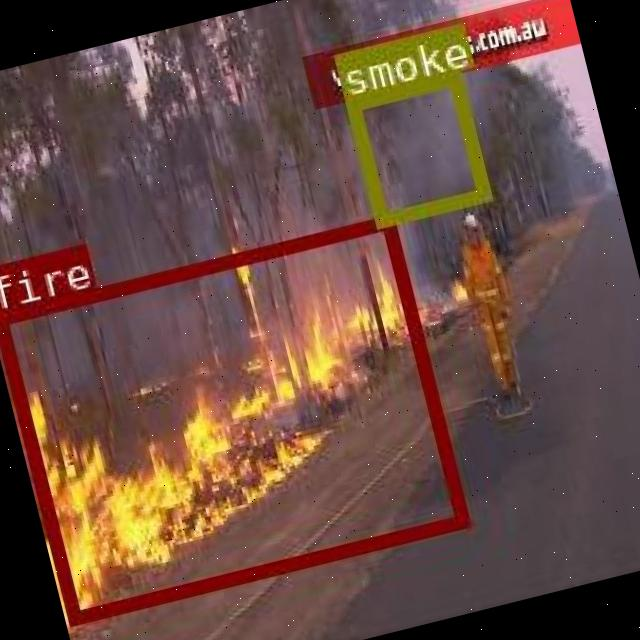fire: (0, 212, 466, 623)
smoke: (344, 70, 490, 226)
